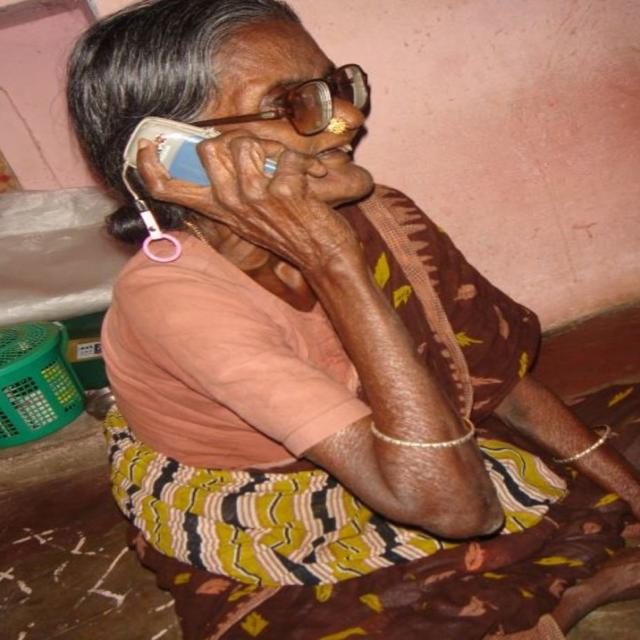Glasses: (127, 78, 377, 140)
